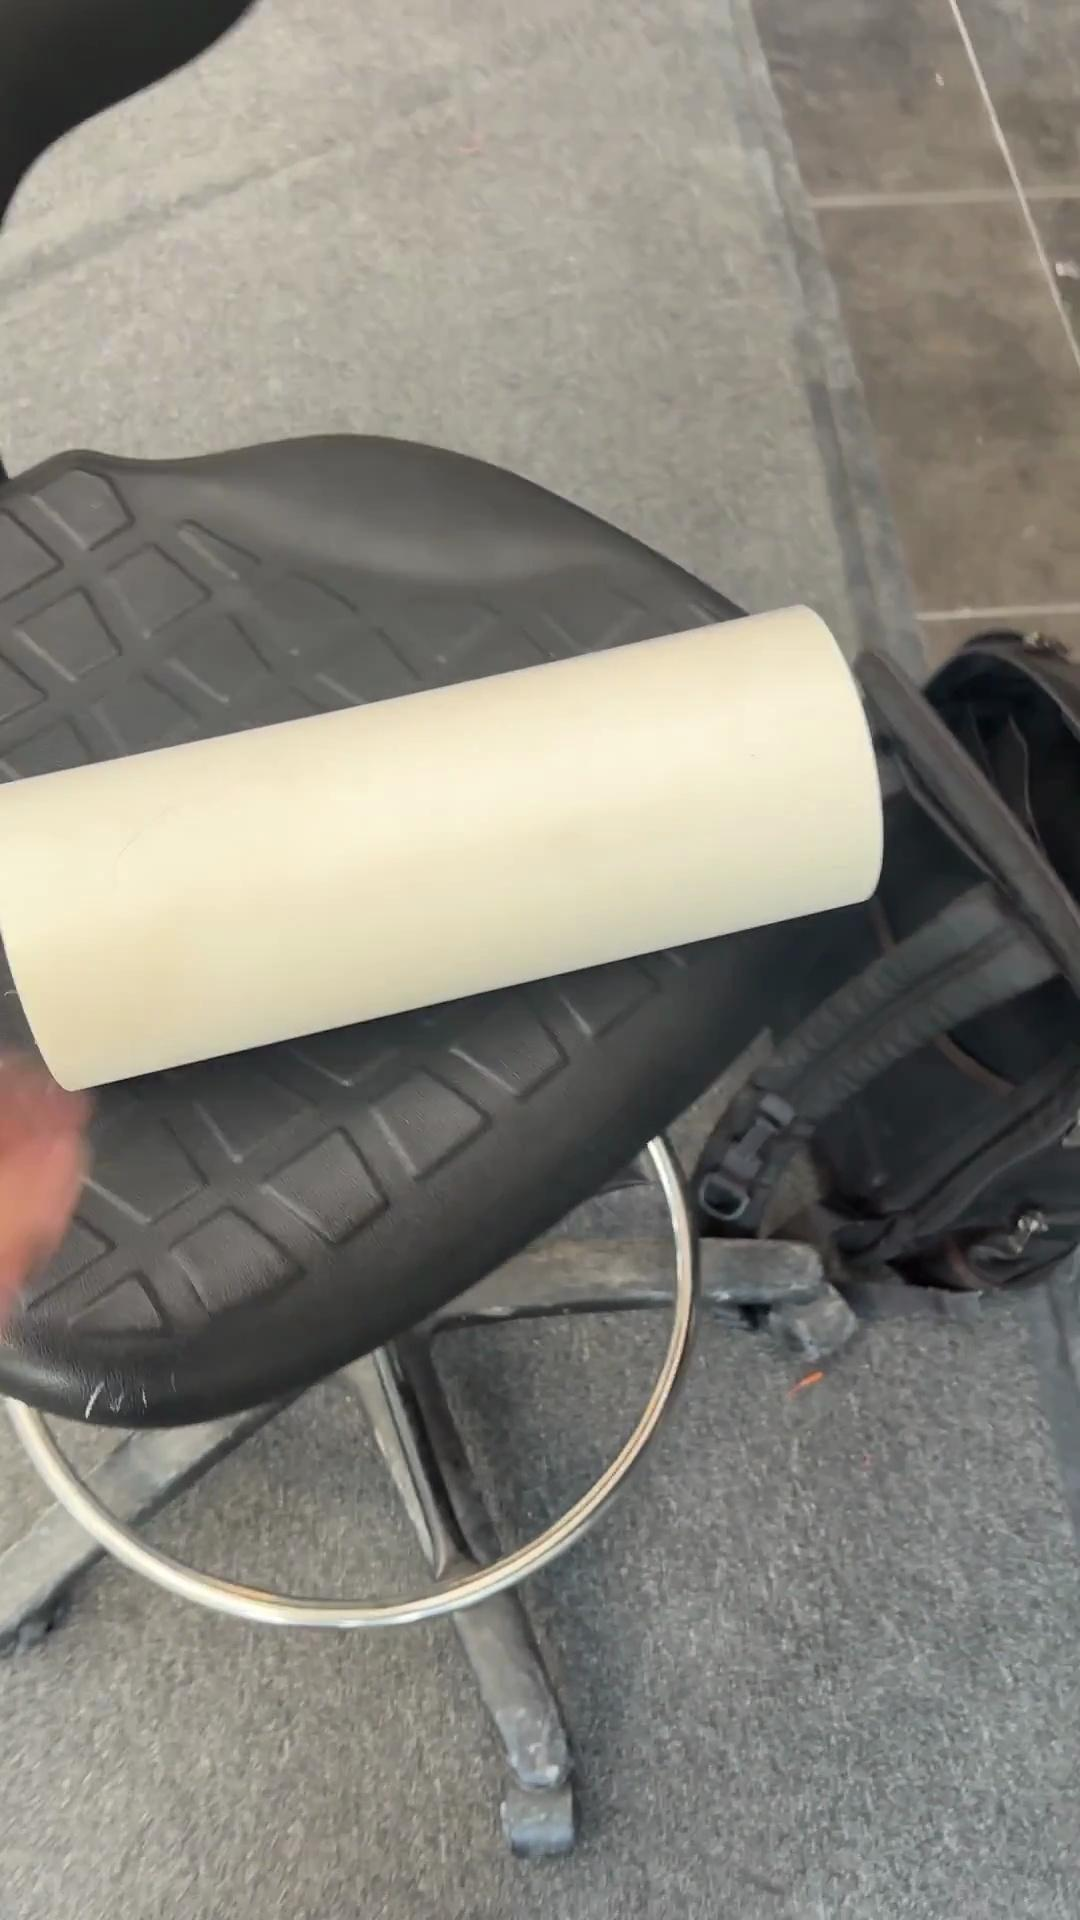CORAL: (1, 597, 887, 1095)
